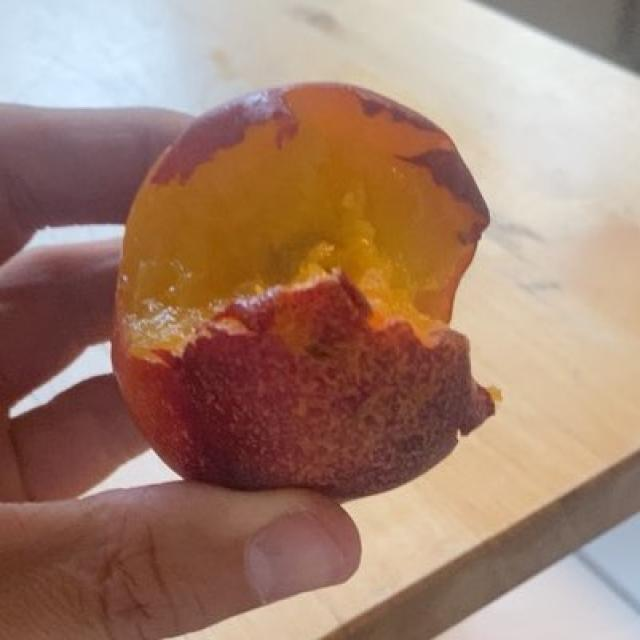peach: (120, 90, 483, 487)
